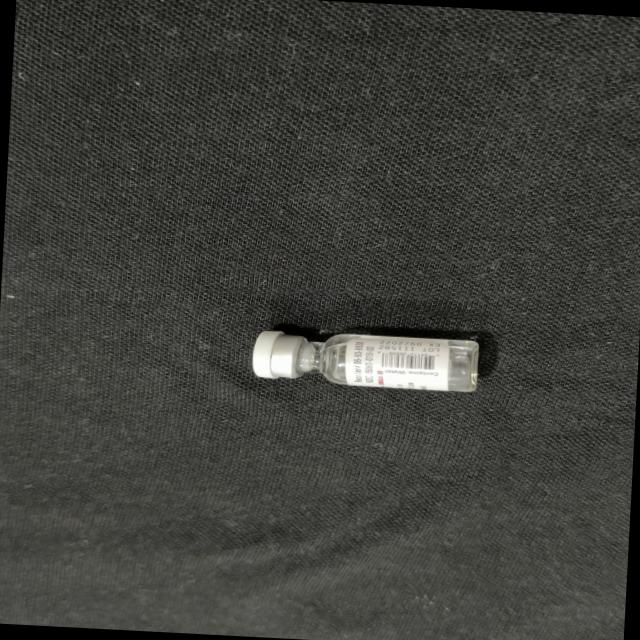fentanl_citrat: (255, 329, 476, 390)
